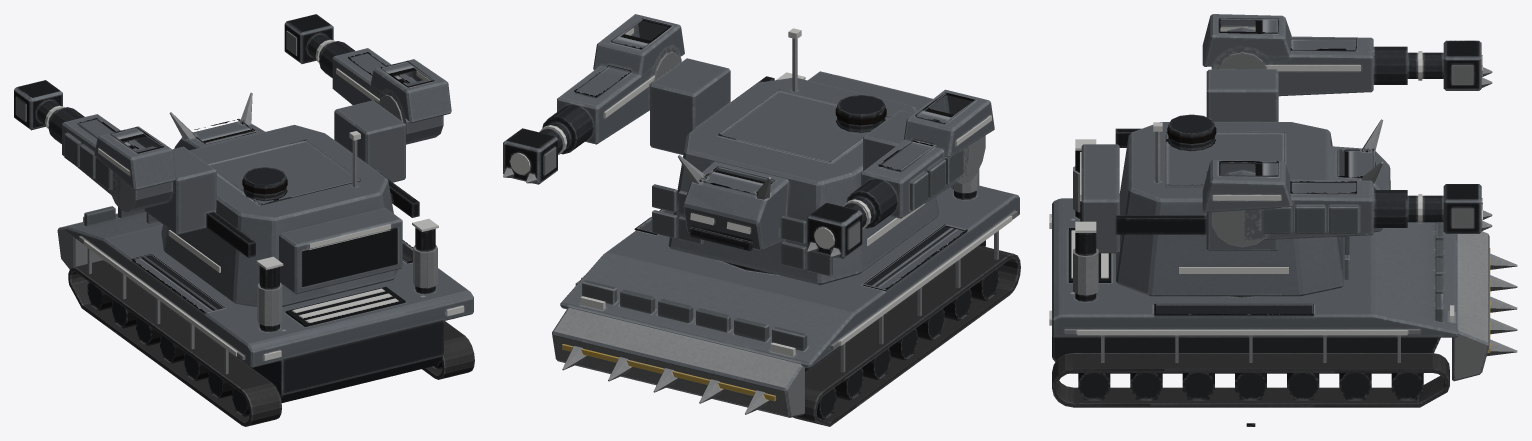
Rendered from chs_goliath.fbx.
3 renders of one model, left to right at view 1: azimuth 30°, elevation 25°; view 2: azimuth 150°, elevation 25°; view 3: azimuth 270°, elevation 25°, orthographic. The views are drawn at different scales.
Parts seen in each view (by area): view 1: turret_bar, base_bar, trackL_bar, armL_bar, armR_bar, base_glow_running_bar, trackR_bar, turret_glow_running_bar; view 2: base_bar, turret_bar, trackL_bar, armL_bar, armR_bar, base_glow_running_bar, turret_glow_running_bar, armR_glow_weapon_bar, armL_glow_weapon_bar, base_glow_head_bar; view 3: base_bar, turret_bar, trackR_bar, armR_bar, armL_bar, base_glow_running_bar, turret_glow_running_bar, armL_glow_running_bar.
Boxes of the visible parts, x1,y1,x2,y2 form: turret_bar: [144, 92, 419, 306]; base_bar: [57, 206, 473, 402]; trackL_bar: [68, 260, 281, 426]; armL_bar: [14, 80, 175, 212]; armR_bar: [284, 14, 451, 144]; base_glow_running_bar: [83, 218, 464, 360]; trackR_bar: [422, 321, 474, 379]; turret_glow_running_bar: [168, 131, 390, 272]; base_bar: [552, 169, 1019, 417]; turret_bar: [650, 38, 938, 284]; trackL_bar: [793, 245, 1020, 426]; armL_bar: [807, 89, 994, 258]; armR_bar: [503, 14, 684, 184]; base_glow_running_bar: [581, 72, 1012, 345]; turret_glow_running_bar: [690, 28, 925, 245]; armR_glow_weapon_bar: [510, 125, 567, 174]; armL_glow_weapon_bar: [814, 199, 871, 248]; base_glow_head_bar: [580, 296, 795, 356]; base_bar: [1052, 150, 1517, 381]; turret_bar: [1080, 52, 1390, 296]; trackR_bar: [1052, 353, 1449, 407]; armR_bar: [1202, 160, 1492, 247]; armL_bar: [1202, 14, 1492, 96]; base_glow_running_bar: [1049, 139, 1407, 335]; turret_glow_running_bar: [1080, 122, 1390, 273]; armL_glow_running_bar: [1220, 27, 1360, 71].
Size of the model in its own units: 946 by 857 by 1105.
Materials: 2 (2 with a texture image).
